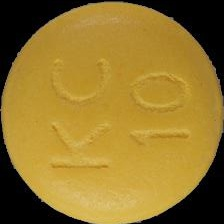67046-350: (0, 0, 224, 224)
